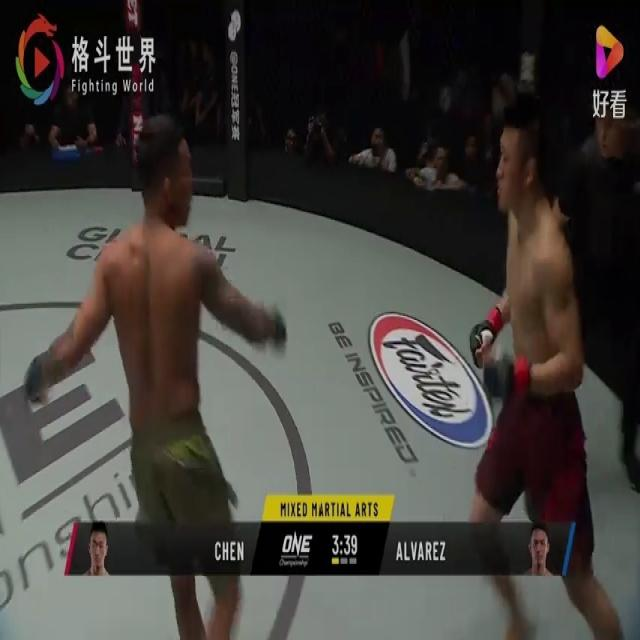fight: (2, 120, 630, 639)
